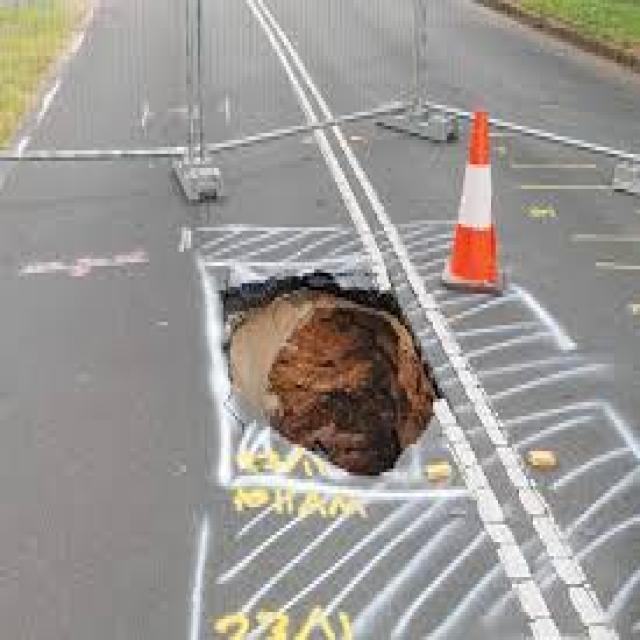Pothole: (223, 283, 435, 479)
